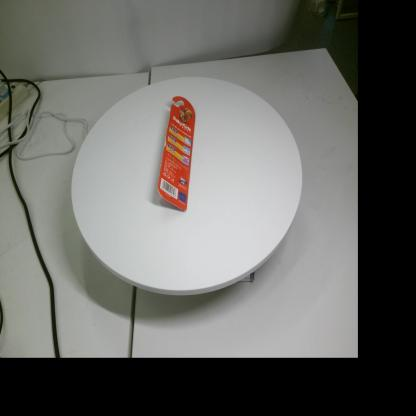Personal Hygiene: (157, 96, 195, 211)
